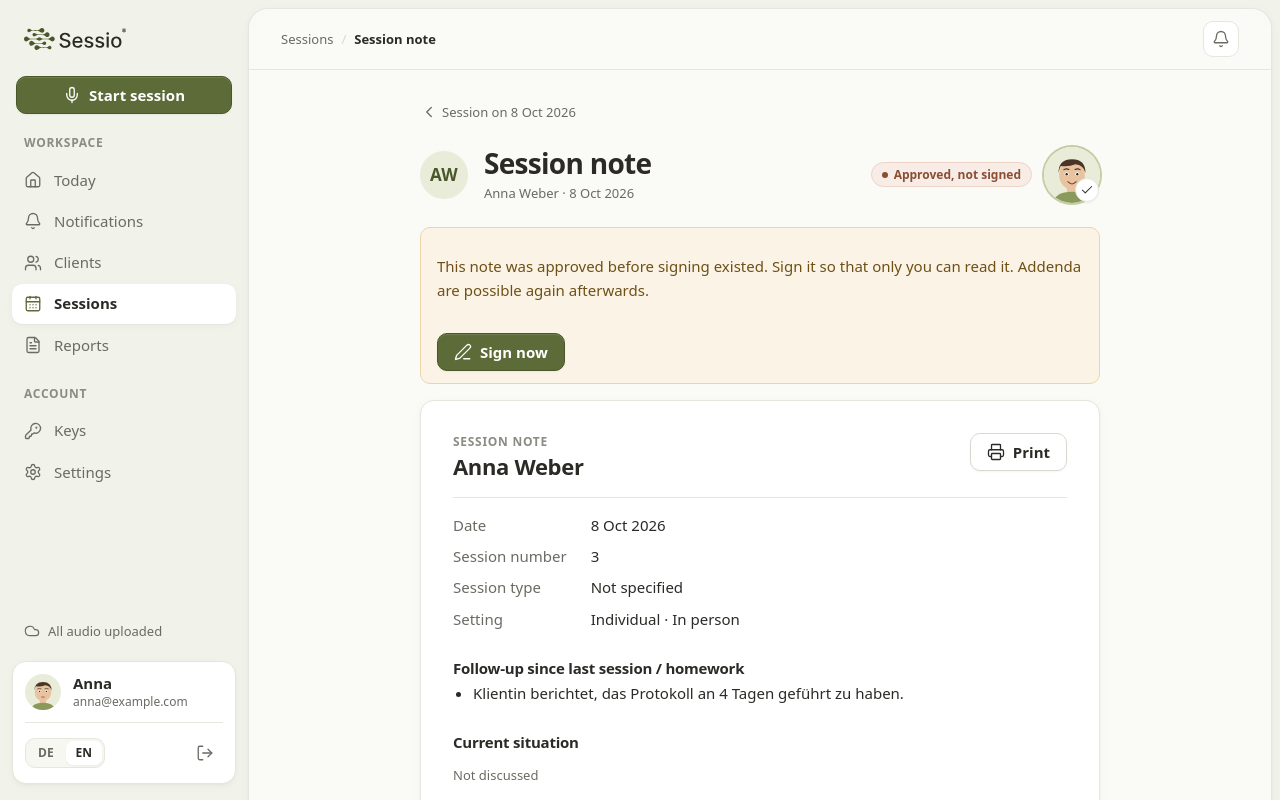
Scenario: session note › offers to sign a note approved before signing existed; no addenda until then
The image size is (1280, 800).
Check: the text "approved before signing existed" is shown, box [437,256,1081,300]
Click the button "Sign now". click: (501,352)
box: [437,333,565,371]
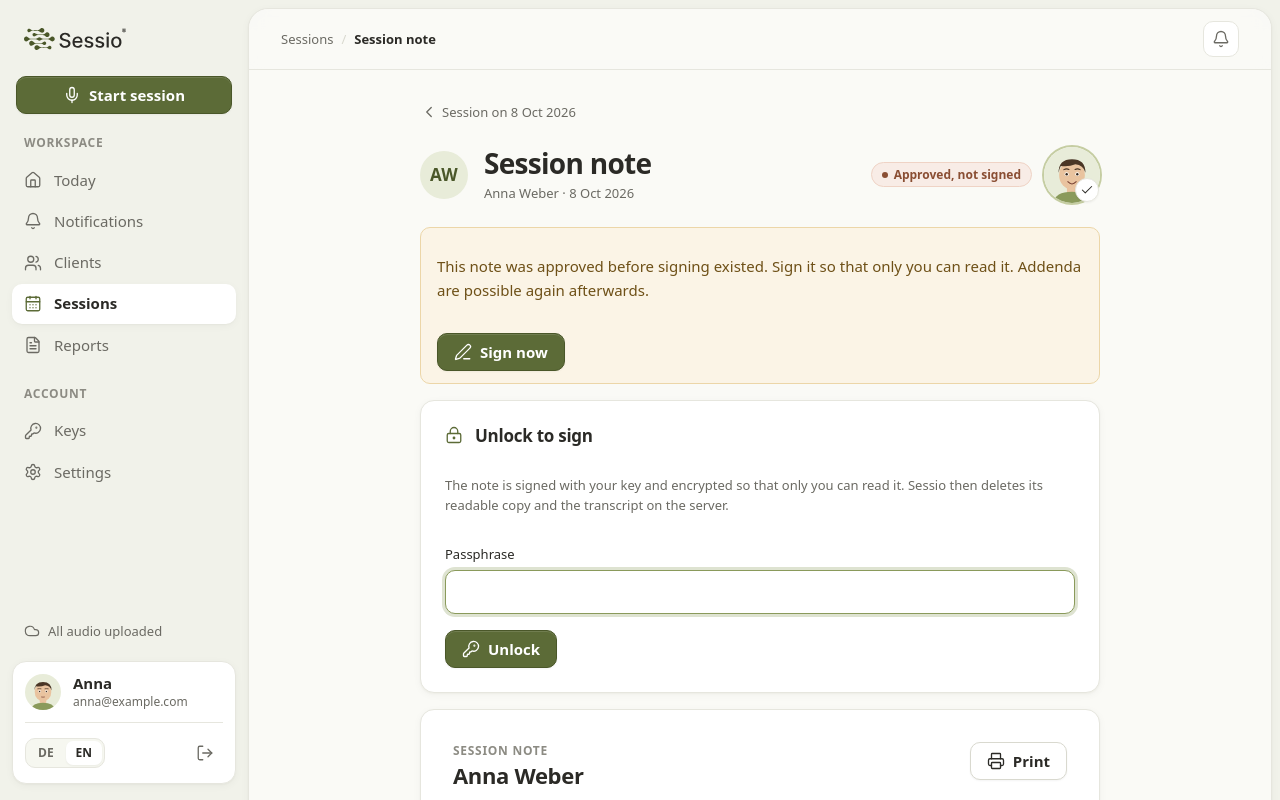
Check: the element "Unlock to sign" is shown, box [420,400,1100,693]
